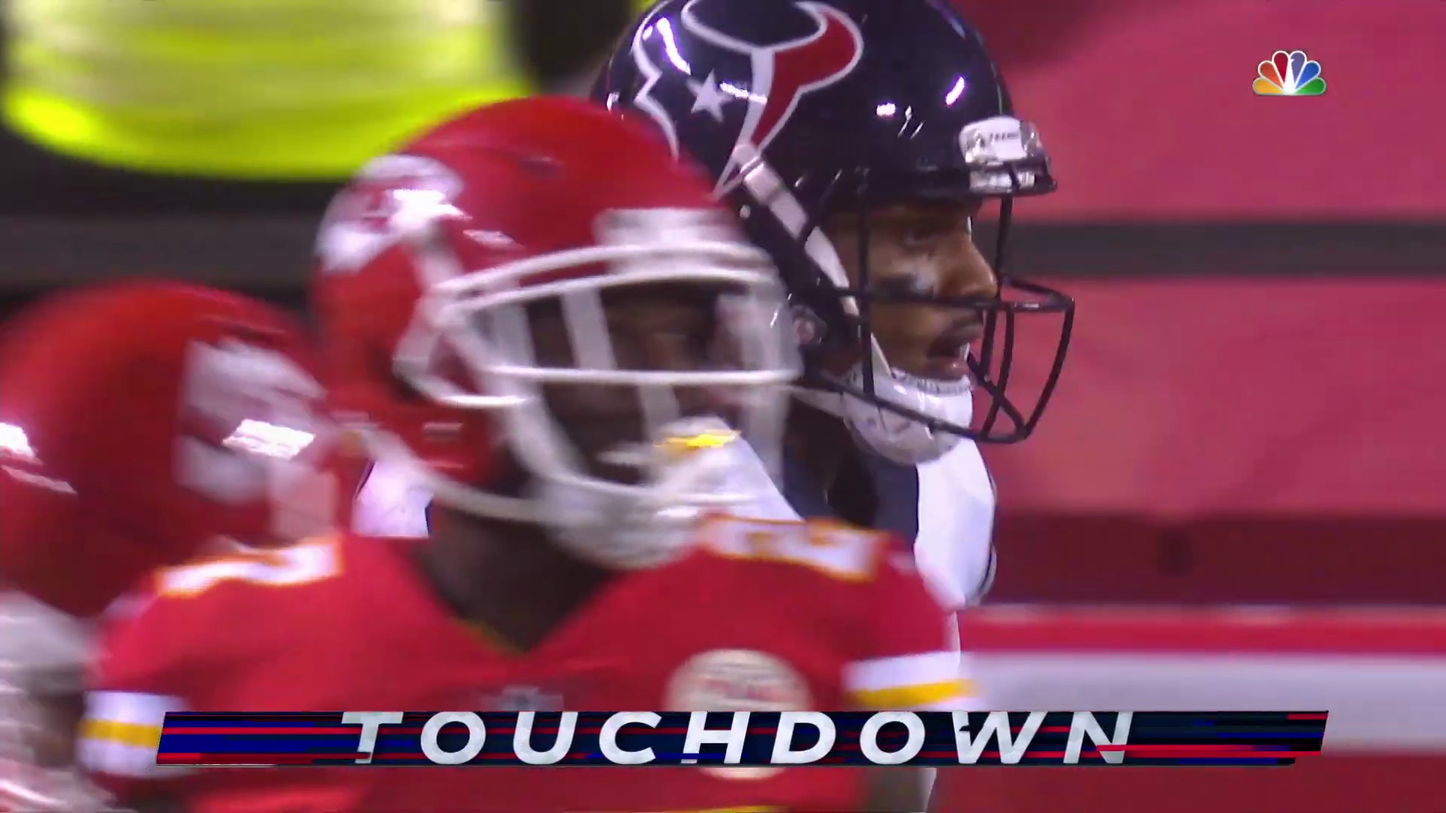Player: (303, 40, 775, 577)
